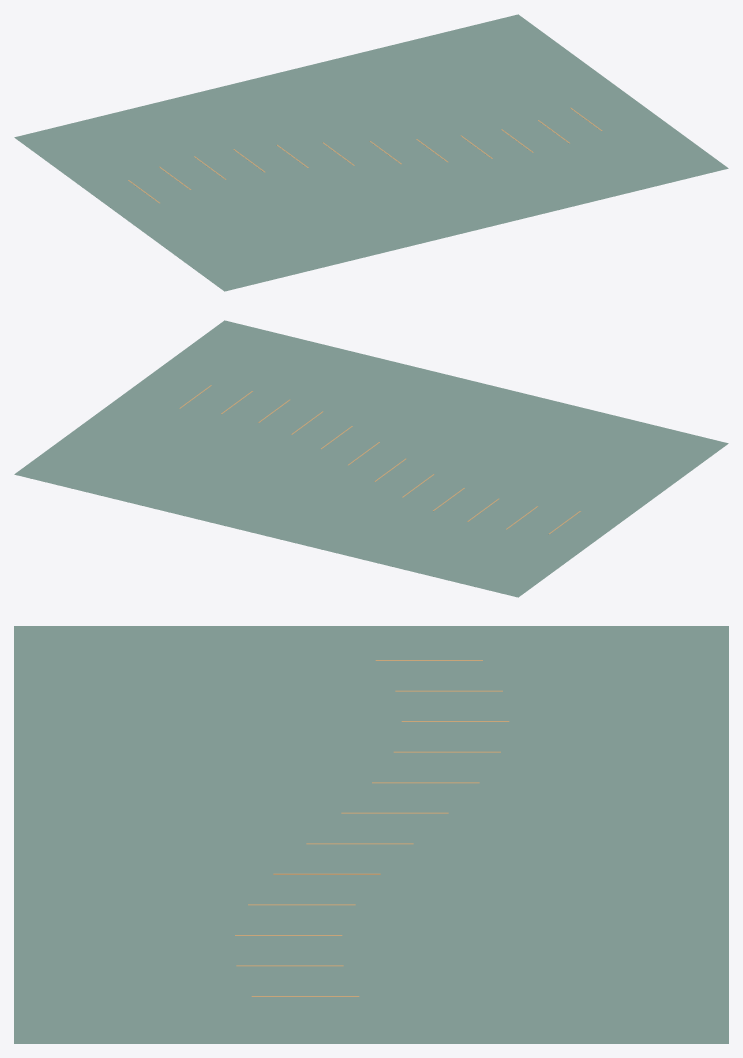
File: 271_L120_L6_LayerReference.glb
The picture shows the model from 3 angles, top to bottom: view 1: azimuth 30°, elevation 25°; view 2: azimuth 150°, elevation 25°; view 3: azimuth 270°, elevation 25°; orthographic projection. The views are drawn at different scales.
Visible parts, largest first — view 1: 0000__PSMAT__dielectric; view 2: 0000__PSMAT__dielectric; view 3: 0000__PSMAT__dielectric.
Boxes of the visible parts, x1,y1,x2,y2 form: 0000__PSMAT__dielectric: (14,14,728,291); 0000__PSMAT__dielectric: (14,320,728,597); 0000__PSMAT__dielectric: (14,626,728,1043).
Bounding box in the file's own units: 0.506 × 0.000184 × 0.366.
